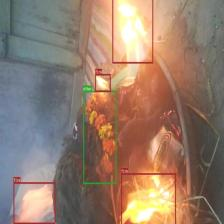fire: (120, 172, 175, 224), (112, 0, 153, 63), (13, 182, 55, 224), (95, 74, 110, 92)
